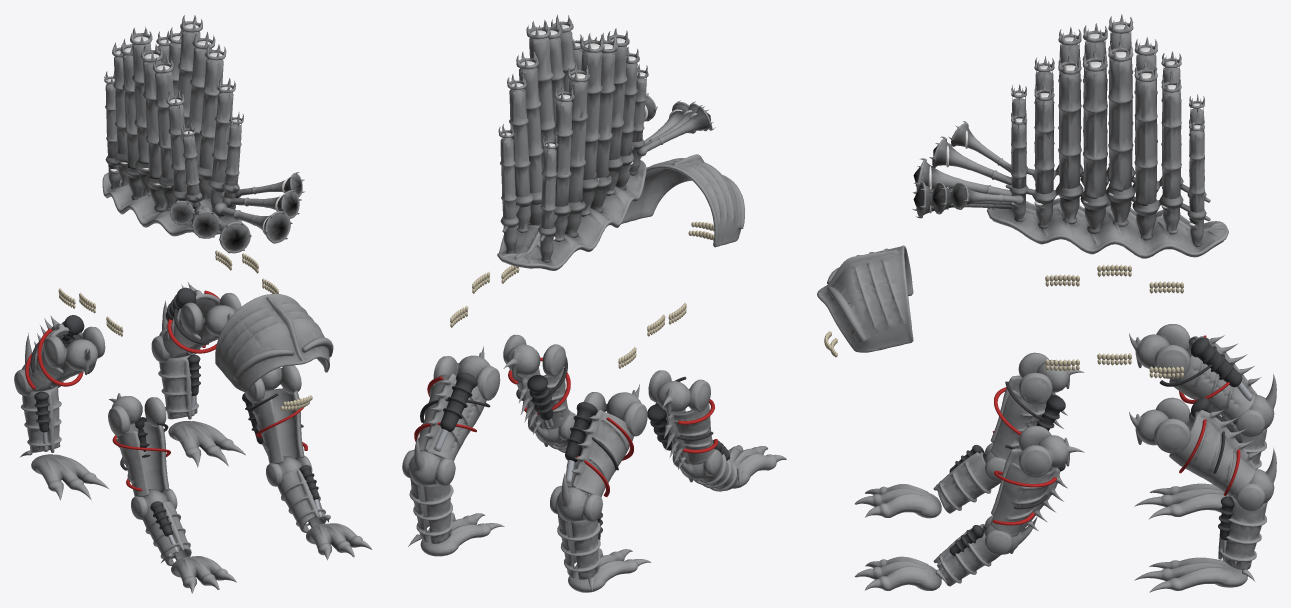
File: organ-parts.glb
3 renders of one model, left to right at view 1: azimuth 30°, elevation 25°; view 2: azimuth 150°, elevation 25°; view 3: azimuth 270°, elevation 25°, orthographic. The views are drawn at different scales.
Visible parts, largest first — view 1: skull|mask, spine|chamadeL, forearm.l|tibia, forearm.r|tibia, spine|pipeL5, spine|chamadeR, spine|saddle, spine|pipeR4, shin.r|knee, foot.r|toes, spine|pipeR5, foot.l|cannon (+32 smaller); view 2: skull|mask, spine|saddle, shin.r|tibia, shin.l|tibia, spine|pipeR2, spine|pipeR3, spine|pipeL2, spine|pipeL1, foot.l|cannon, foot.r|cannon, spine|pipeR4, spine|pipeR1 (+30 smaller); view 3: skull|mask, spine|saddle, shin.l|tibia, spine|pipeL3, spine|pipeL4, spine|pipeL2, spine|pipeL5, forearm.l|tibia, spine|chamadeR, shin.r|tibia, spine|pipeL1, foot.l|toes (+26 smaller).
Boxes of the visible parts, x1=… form: skull|mask: x1=215, y1=293, x2=333, y2=392; spine|chamadeL: x1=213, y1=172, x2=304, y2=243; forearm.l|tibia: x1=251, y1=388, x2=304, y2=463; forearm.r|tibia: x1=116, y1=421, x2=169, y2=496; spine|pipeL5: x1=198, y1=43, x2=226, y2=200; spine|chamadeR: x1=169, y1=200, x2=251, y2=253; spine|saddle: x1=102, y1=172, x2=241, y2=236; spine|pipeR4: x1=140, y1=44, x2=167, y2=211; shin.r|knee: x1=43, y1=326, x2=105, y2=374; foot.r|toes: x1=20, y1=450, x2=108, y2=500; spine|pipeR5: x1=152, y1=56, x2=175, y2=210; foot.l|cannon: x1=158, y1=352, x2=198, y2=419; skull|mask: x1=621, y1=154, x2=744, y2=247; spine|saddle: x1=497, y1=160, x2=646, y2=270; shin.r|tibia: x1=561, y1=409, x2=633, y2=497; shin.l|tibia: x1=414, y1=373, x2=486, y2=461; spine|pipeR2: x1=564, y1=63, x2=589, y2=237; spine|pipeR3: x1=580, y1=33, x2=604, y2=216; spine|pipeL2: x1=516, y1=51, x2=543, y2=225; spine|pipeL1: x1=507, y1=74, x2=530, y2=232; foot.l|cannon: x1=409, y1=477, x2=453, y2=543; foot.r|cannon: x1=557, y1=513, x2=600, y2=579; spine|pipeR4: x1=590, y1=33, x2=617, y2=212; spine|pipeR1: x1=553, y1=84, x2=574, y2=241; skull|mask: x1=817, y1=245, x2=913, y2=352; spine|saddle: x1=987, y1=198, x2=1228, y2=258; shin.l|tibia: x1=1169, y1=409, x2=1261, y2=496; spine|pipeL3: x1=1108, y1=40, x2=1133, y2=226; spine|pipeL4: x1=1082, y1=50, x2=1107, y2=233; spine|pipeL2: x1=1134, y1=62, x2=1157, y2=240; spine|pipeL5: x1=1058, y1=54, x2=1081, y2=224; forearm.l|tibia: x1=990, y1=448, x2=1067, y2=536; spine|chamadeR: x1=913, y1=121, x2=1011, y2=195; shin.r|tibia: x1=1169, y1=335, x2=1261, y2=422; spine|pipeL1: x1=1161, y1=75, x2=1181, y2=234; foot.l|toes: x1=1134, y1=557, x2=1254, y2=592.
Bounding box in the file's own units: 0.8389 × 1.98 × 1.58.
